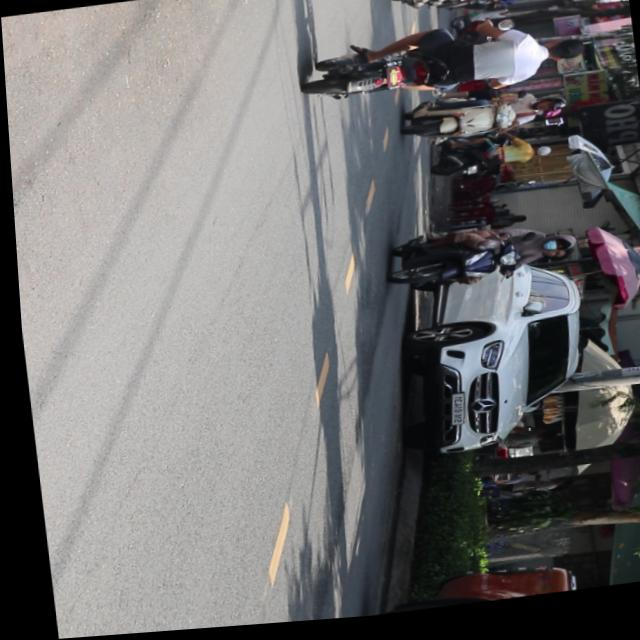helmet: (539, 242, 575, 262), (535, 104, 567, 122)
licenseplate: (298, 17, 592, 117), (379, 222, 579, 297), (397, 90, 570, 153)
motorcyclist: (541, 44, 587, 72)
